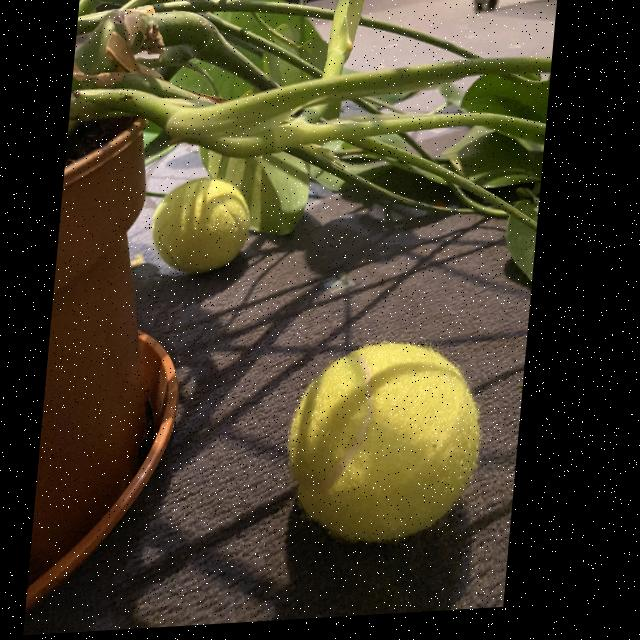Tennisball: (288, 343, 480, 542), (152, 178, 250, 273)
